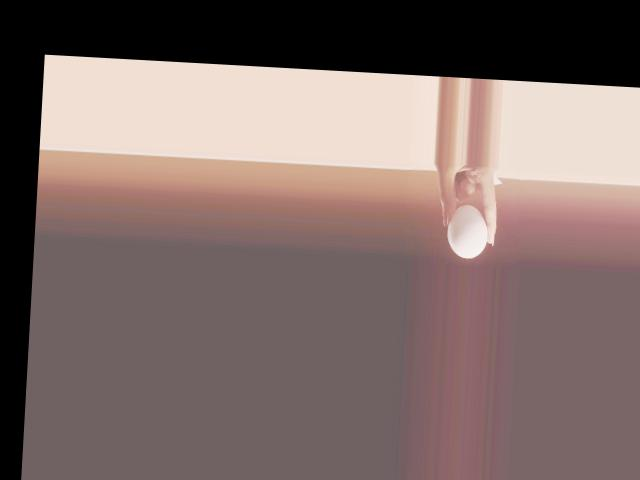egg: (445, 203, 489, 259)
